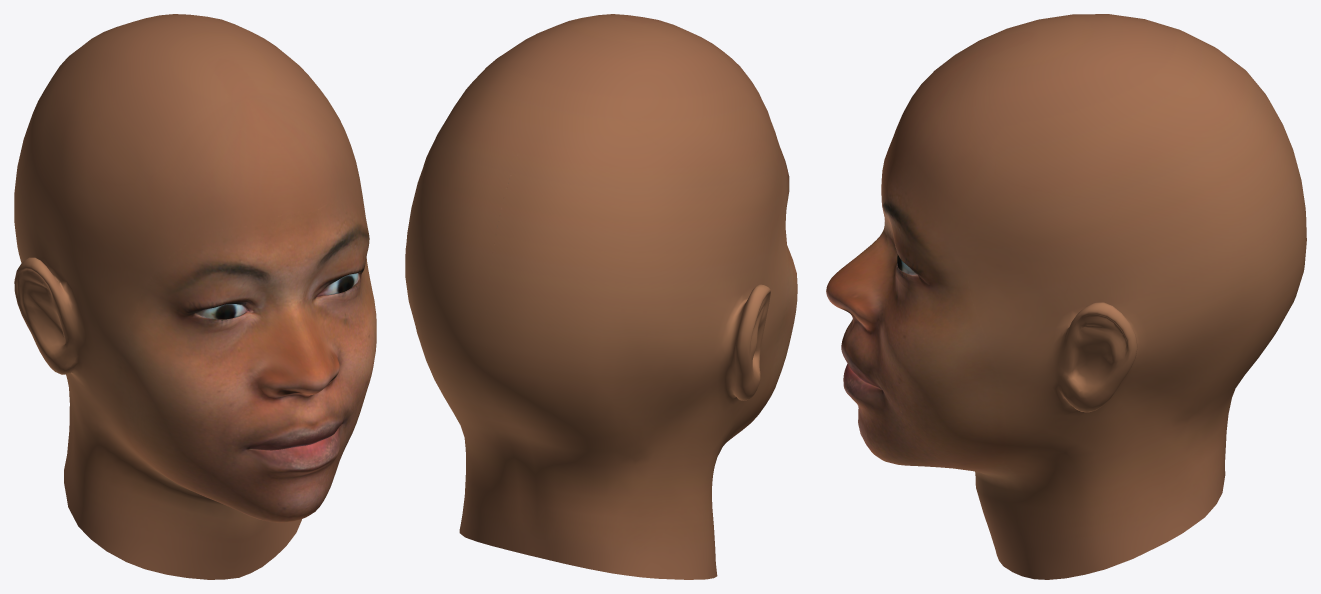
Rendered from v332_obj_ModifierLidTightener(AU07)More.obj.
3 views of the same model, side by side, from view 1: azimuth 30°, elevation 25°; view 2: azimuth 150°, elevation 25°; view 3: azimuth 270°, elevation 25° (orthographic). The views are drawn at different scales.
Visible parts, largest first — view 1: HeadHires; view 2: HeadHires; view 3: HeadHires.
Boxes of the visible parts, box(x1,y1,x2,y2) form: HeadHires: box(14, 14, 376, 579); HeadHires: box(405, 14, 797, 579); HeadHires: box(826, 14, 1306, 579).
Bounding box in the file's own units: 187 × 282 × 233.
